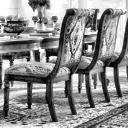chair_success: (1, 3, 96, 122)
